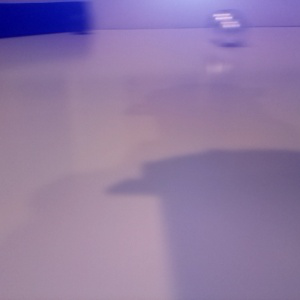alive_ball: (206, 10, 241, 42), (215, 20, 247, 45)
dead_ball: (68, 11, 89, 33)
